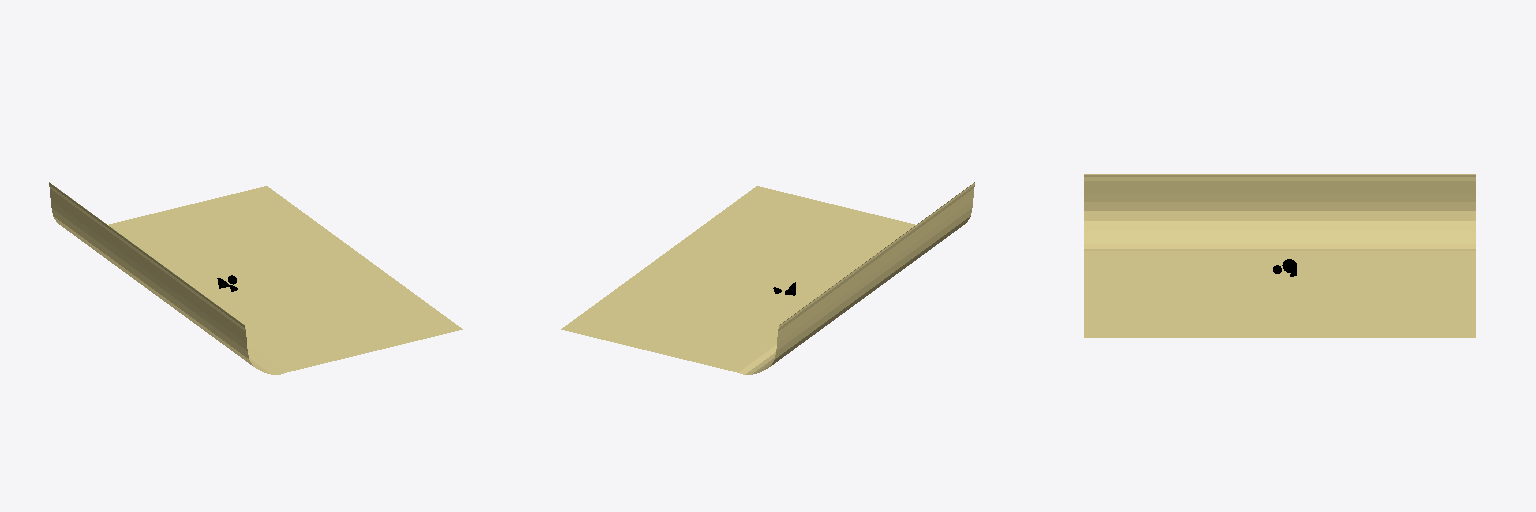
Rendered from diamond.obj.
3 views of the same model, side by side, from view 1: azimuth 30°, elevation 25°; view 2: azimuth 150°, elevation 25°; view 3: azimuth 270°, elevation 25° (orthographic).
Parts seen in each view (by area): view 1: Plane01; view 2: Plane01; view 3: Plane01.
Part boxes in pixels (x1,y1,x2,y2): Plane01: (49,182,462,374); Plane01: (561,182,974,374); Plane01: (1084,174,1475,337).
Bounding box in the file's own units: 418 × 106 × 651.